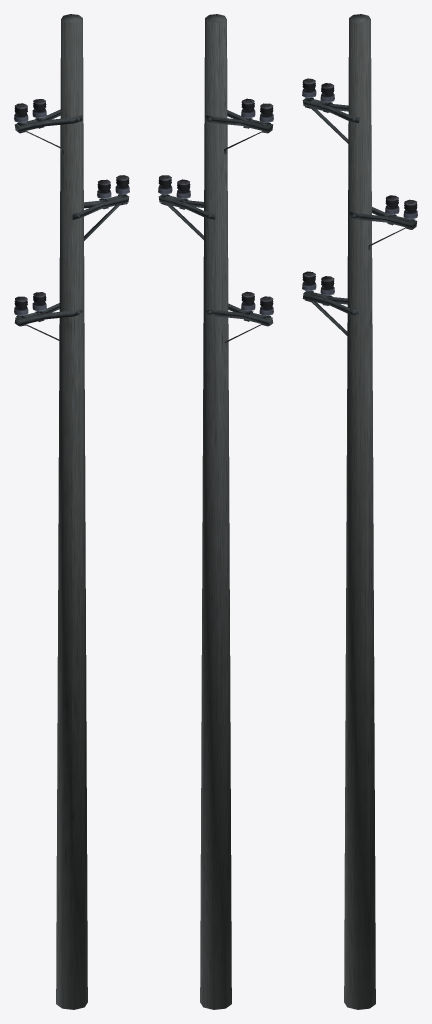
File: pole_concrete_c_lod_1.glb
3 renders of one model, left to right at view 1: azimuth 30°, elevation 25°; view 2: azimuth 150°, elevation 25°; view 3: azimuth 330°, elevation 25°, orthographic.
Visible parts, largest first — view 1: pole_concrete_c_lod_1; view 2: pole_concrete_c_lod_1; view 3: pole_concrete_c_lod_1.
Part boxes in pixels (x1,y1,x2,y2): pole_concrete_c_lod_1: (14, 14, 129, 1009); pole_concrete_c_lod_1: (158, 14, 273, 1009); pole_concrete_c_lod_1: (302, 14, 417, 1009).
Bounding box in the file's own units: 1.24 × 10.2 × 0.2786.
2 materials, 2 textured.
